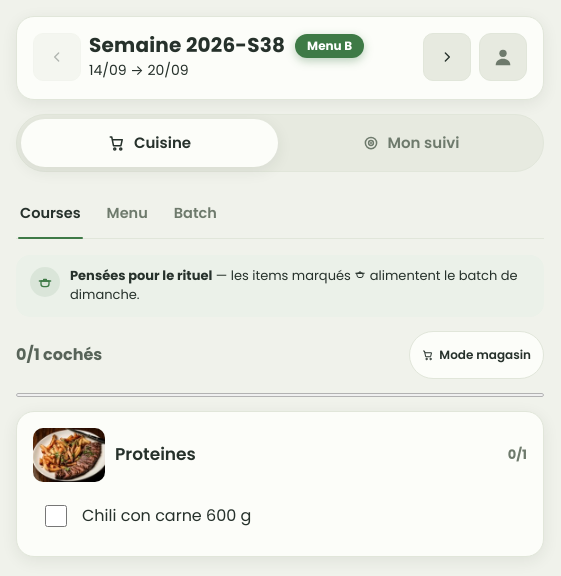
Scenario: App — multi-semaines › ouvre sur la semaine contenant aujourd’hui et navigue par chevrons
This screenshot has width=561, height=576.
Expected: the heading "Semaine 2026-S38" is shown, left=89, top=33, right=285, bottom=58
Expected: the text "Menu B" is shown, left=295, top=34, right=364, bottom=58
Click the button named "Semaine suivante".
click(447, 57)  # box left=423, top=33, right=471, bottom=81
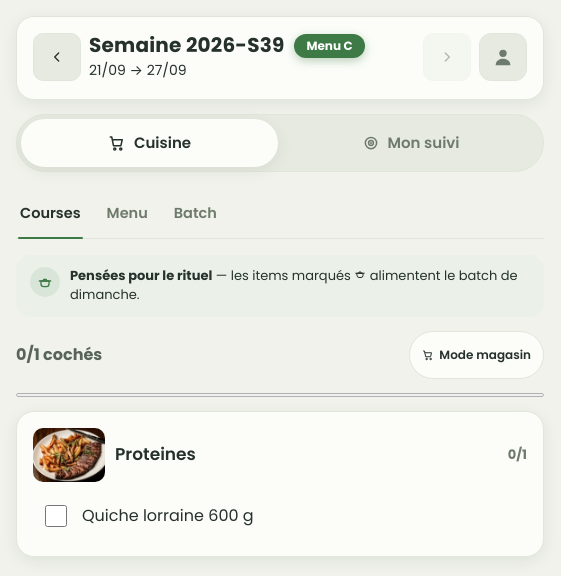
Expected: the heading "Semaine 2026-S39" is shown, left=89, top=33, right=284, bottom=58
Expected: the text "Menu C" is shown, left=294, top=34, right=365, bottom=58
Click the button named "Semaine précédente".
click(57, 57)  # box left=33, top=33, right=81, bottom=81
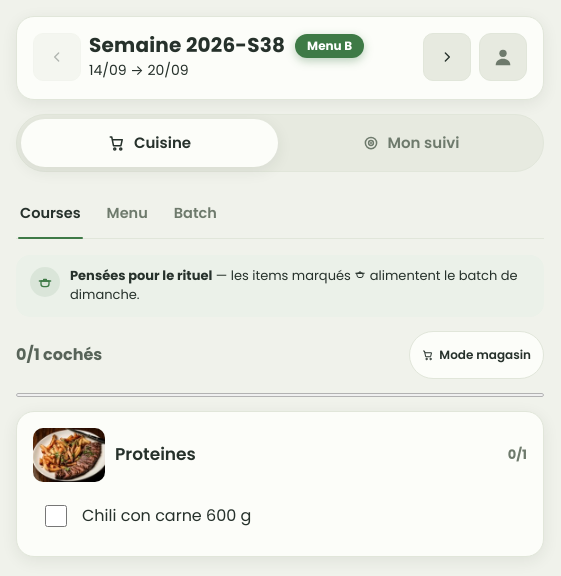
Expected: the button named "Semaine suivante" is enabled, left=423, top=33, right=471, bottom=81
Expected: the heading "Semaine 2026-S38" is shown, left=89, top=33, right=285, bottom=58
